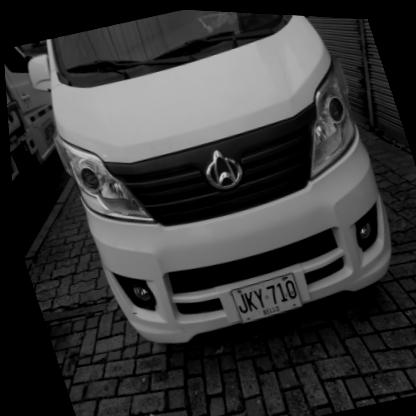placa: (219, 265, 307, 328)
